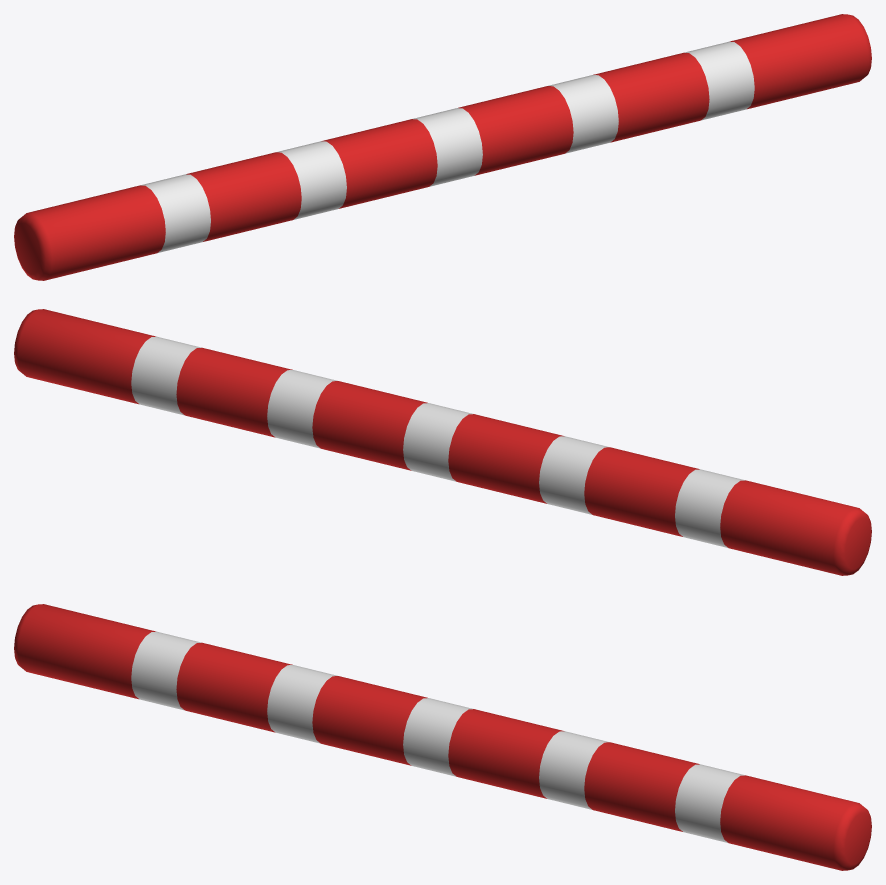
File: stick.fbx
The picture shows the model from 3 angles, top to bottom: view 1: azimuth 30°, elevation 25°; view 2: azimuth 150°, elevation 25°; view 3: azimuth 330°, elevation 25°; orthographic projection.
Visible parts, largest first — view 1: Cylinder.001; view 2: Cylinder.001; view 3: Cylinder.001.
Part boxes in pixels (x1,y1,x2,y2): Cylinder.001: (14,14,871,280); Cylinder.001: (14,309,871,575); Cylinder.001: (14,604,871,870).
Size of the model in its own units: 1800 by 130 by 130.
